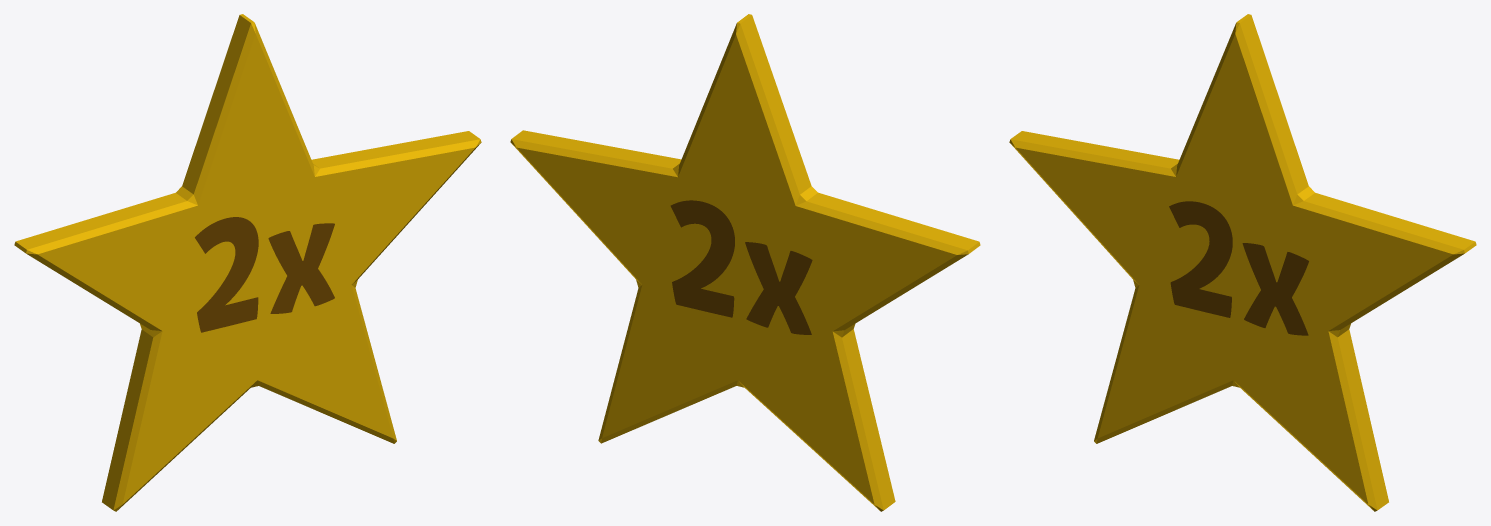
File: a_2x_multiplier_for_font_tales_run.glb
3 renders of one model, left to right at view 1: azimuth 30°, elevation 25°; view 2: azimuth 150°, elevation 25°; view 3: azimuth 330°, elevation 25°, orthographic.
Parts seen in each view (by area): view 1: Circle, Text; view 2: Circle, Text.001; view 3: Circle, Text.
Boxes of the visible parts, x1=… form: Circle: x1=14, y1=14, x2=481, y2=511; Text: x1=195, y1=217, x2=334, y2=332; Circle: x1=510, y1=14, x2=980, y2=511; Text.001: x1=670, y1=200, x2=812, y2=334; Circle: x1=1009, y1=14, x2=1476, y2=511; Text: x1=1169, y1=201, x2=1308, y2=335.
Size of the model in its own units: 1.87 by 1.78 by 0.1486.
